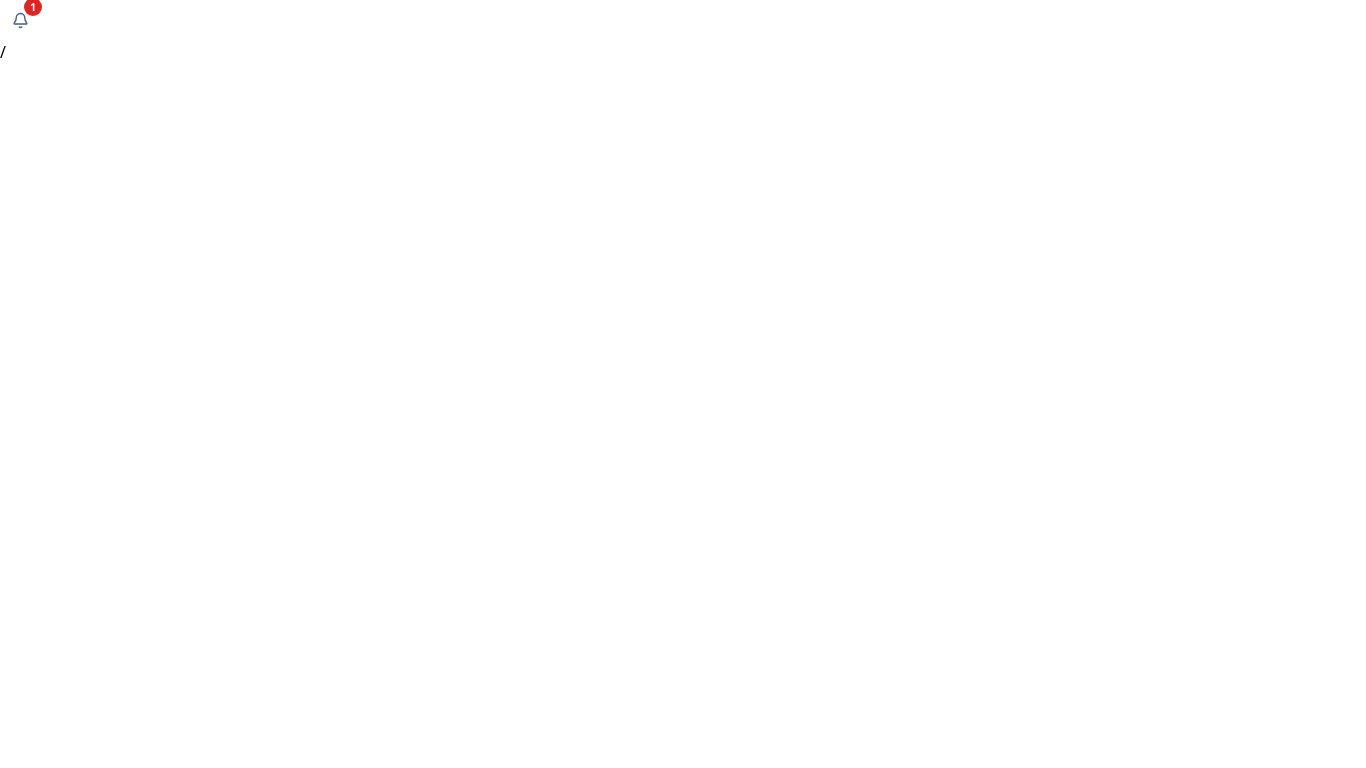
Test: AvisoFotoReportada › DOCENTE abre Revisión de fotos desde el aviso de foto reportada
Click the button named "Notificaciones: 1 sin leer" at (20, 20), box [0,0,40,40]
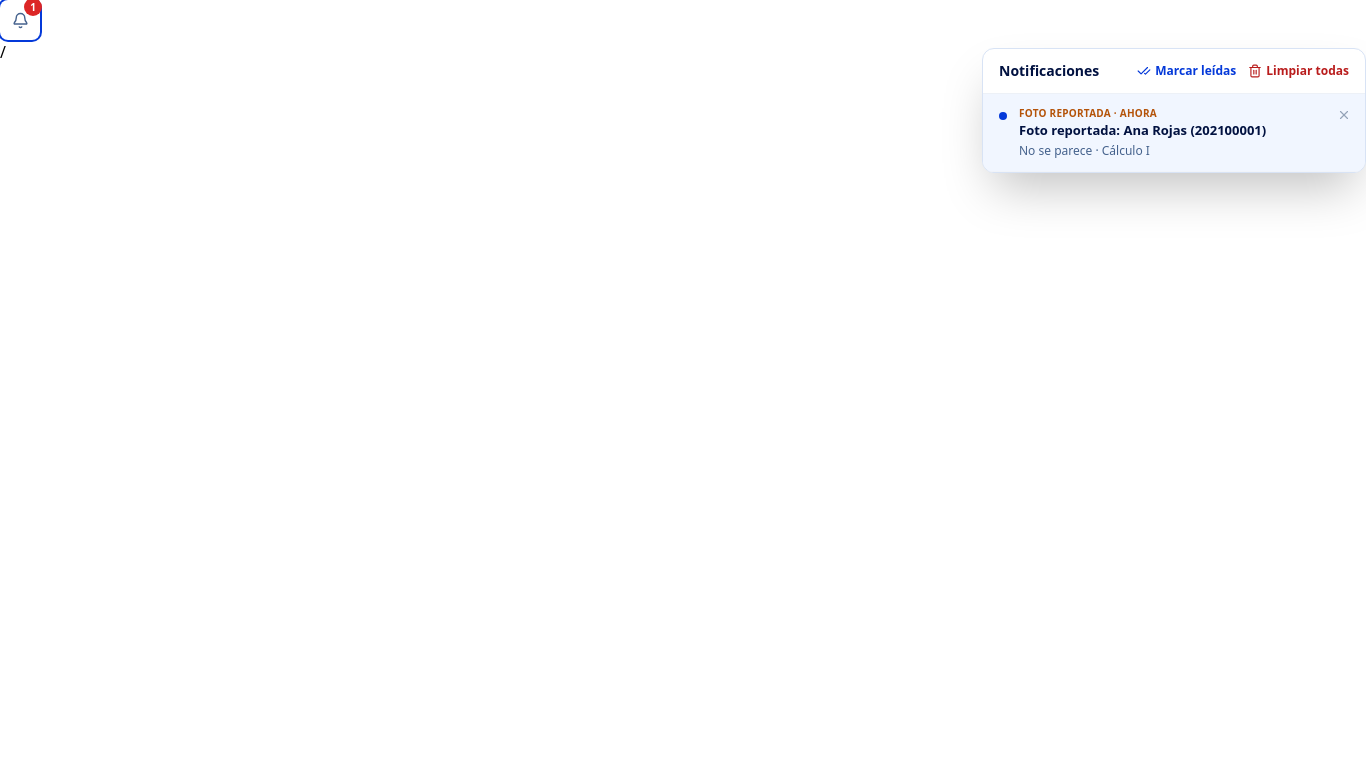
Click the button that starts with "Foto reportada" at (1153, 132), box [983,94,1323,170]
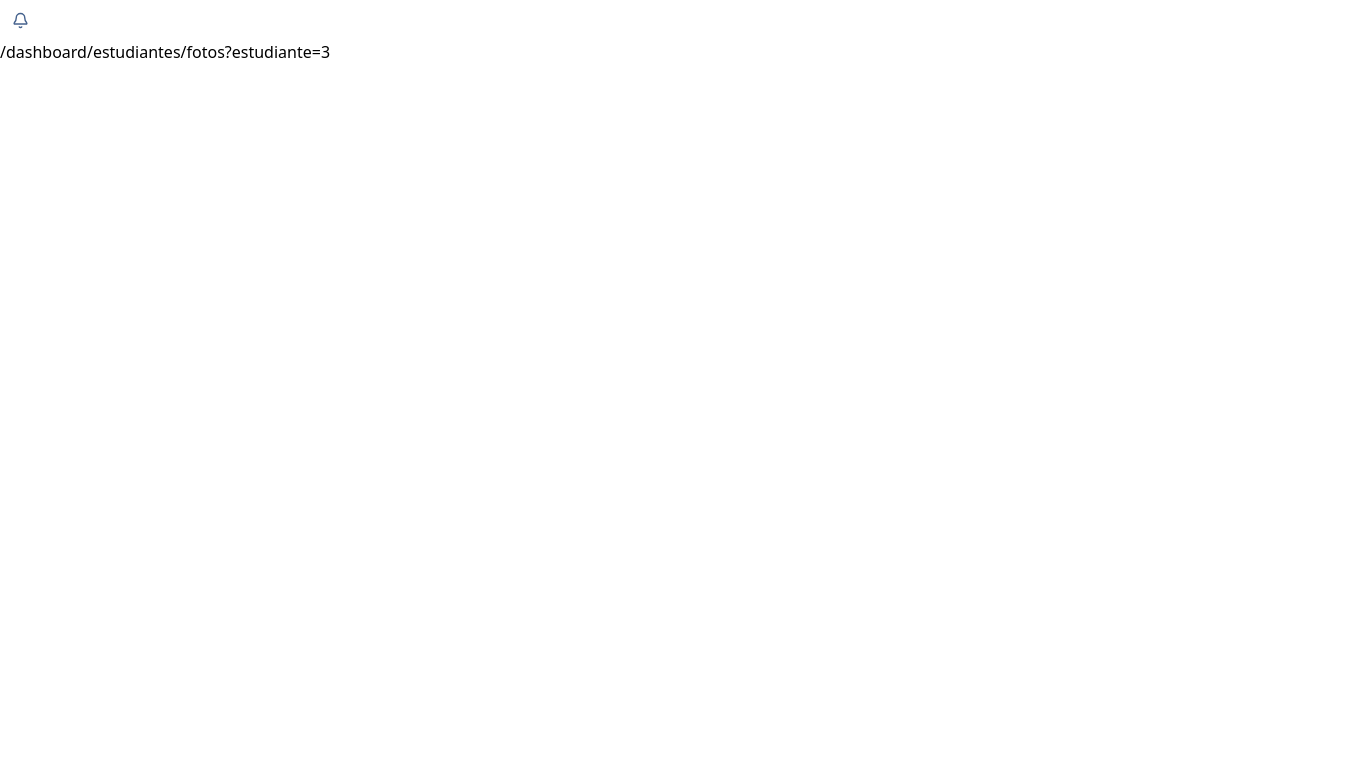
Expected: the text with test id "ubicacion" reads "/dashboard/estudiantes/fotos?estudiante=3", [0,41,330,63]
